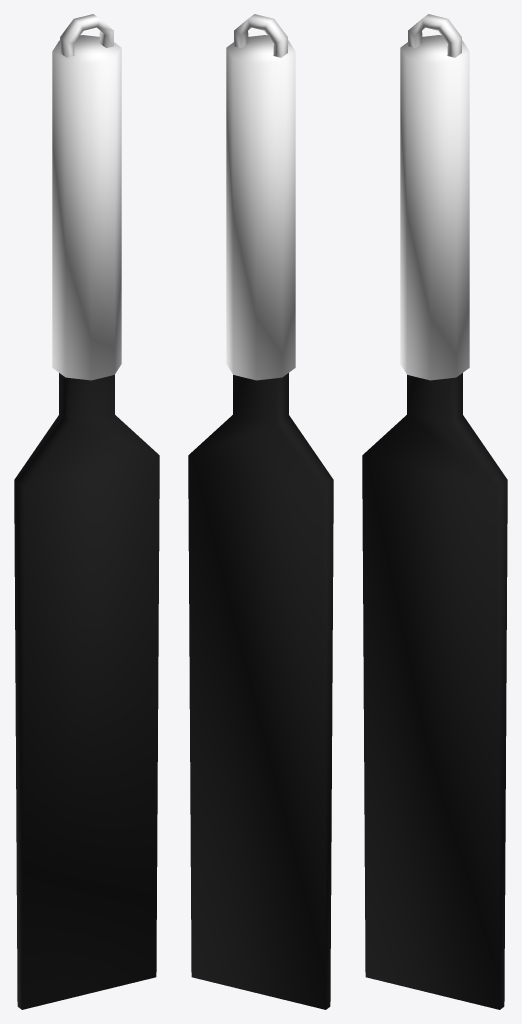
The model's file is Tool#1.fbx.
The picture shows the model from 3 angles, left to right: view 1: azimuth 30°, elevation 25°; view 2: azimuth 150°, elevation 25°; view 3: azimuth 330°, elevation 25°; orthographic projection.
Parts seen in each view (by area): view 1: Tool#1; view 2: Tool#1; view 3: Tool#1.
Part boxes in pixels (bbox=[...]): Tool#1: bbox=[14, 14, 159, 1009]; Tool#1: bbox=[188, 14, 333, 1009]; Tool#1: bbox=[362, 14, 507, 1009].
Size of the model in its own units: 6.17 by 42.69 by 2.57.
